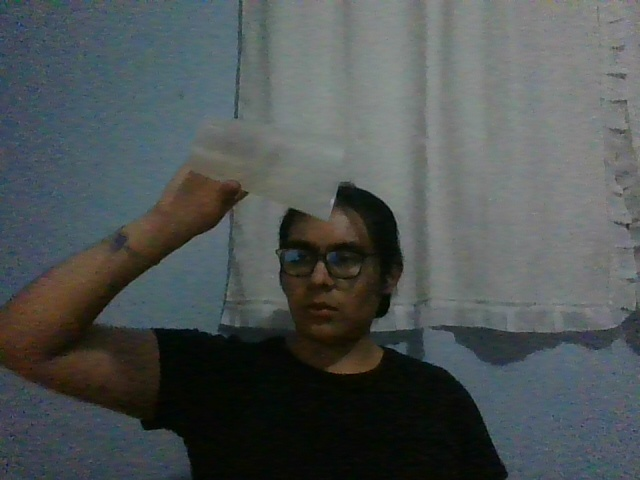vaso: (186, 115, 344, 223)
